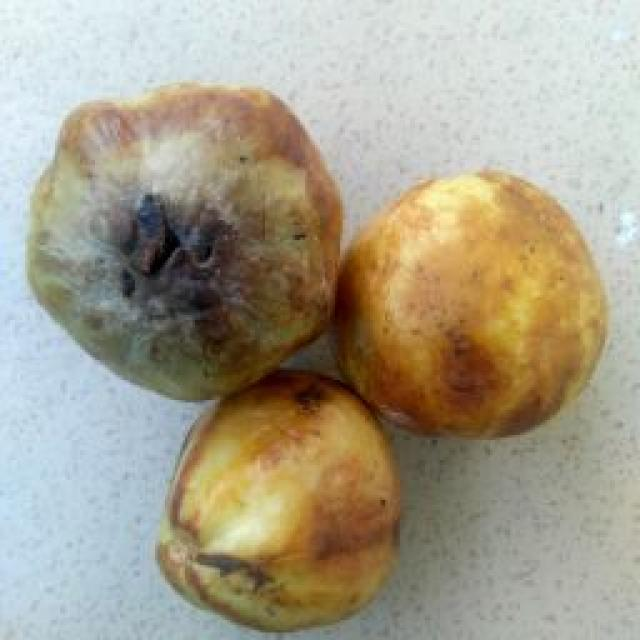Bad_Guava: (28, 82, 338, 399), (158, 371, 400, 631)
